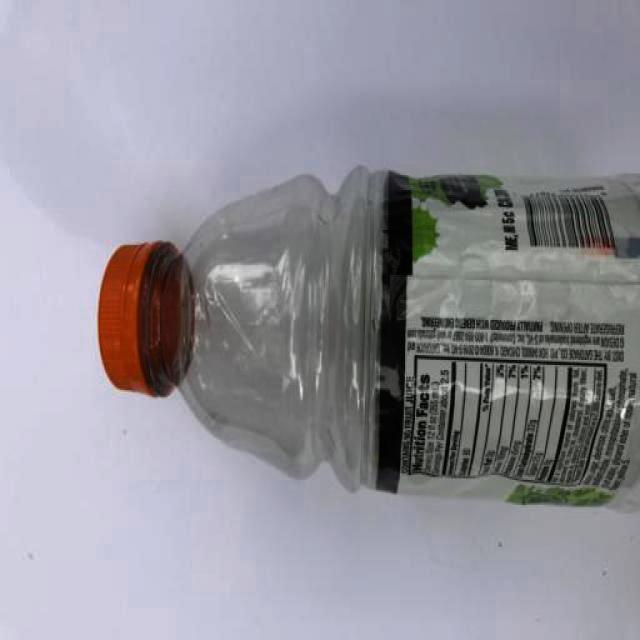bottle: (95, 166, 640, 507)
